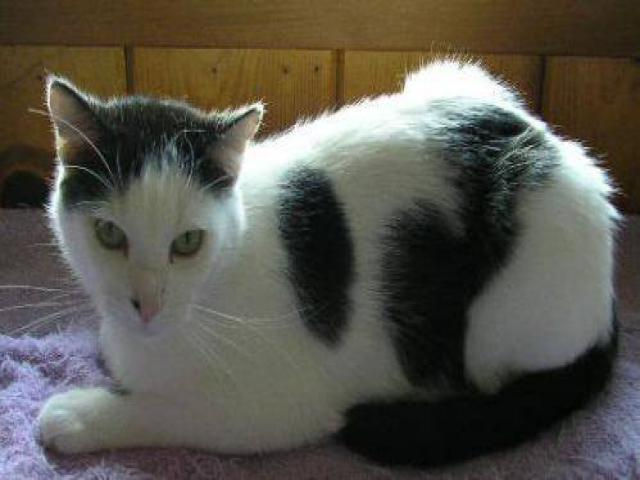cat: (29, 52, 621, 460)
